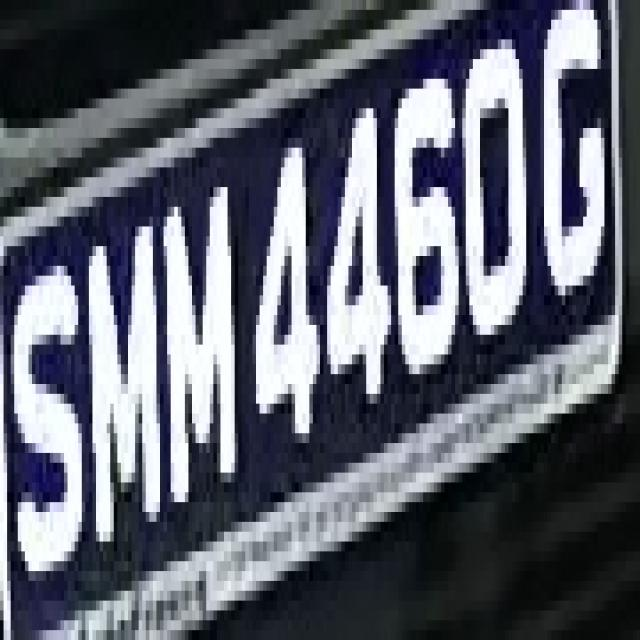0: (455, 20, 533, 374)
4: (238, 99, 327, 482), (313, 69, 395, 482)
6: (377, 29, 459, 394)
G: (530, 0, 618, 325)
M: (153, 148, 245, 532), (78, 187, 167, 581)
S: (4, 226, 82, 581)
